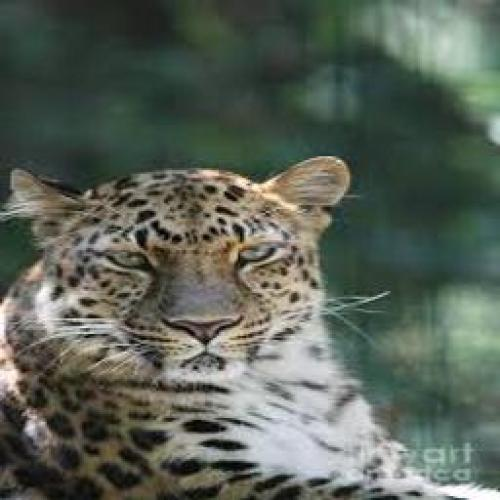amur_leopard-endangered: (0, 153, 420, 500)
